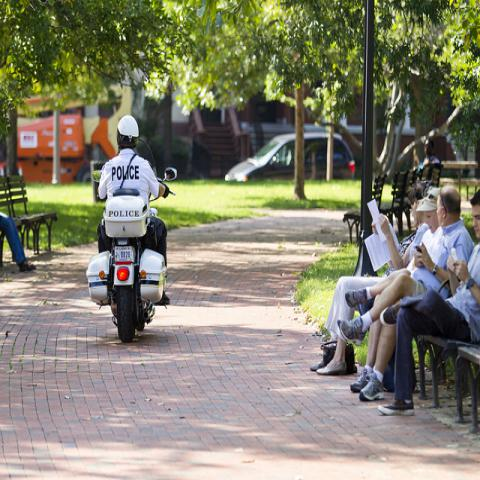car: (225, 132, 354, 182)
motorcycle: (85, 99, 183, 342)
truck: (17, 84, 130, 184)
